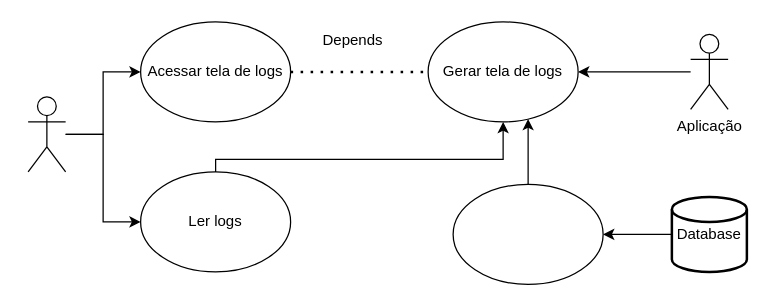
The diagram is 770 pixels wide and 306 high, and some of its shapes have lost their labels. Each missing label, with the centre of its shape:
Consulta tabela de logs: (527,233)
Usuário: (46,134)
